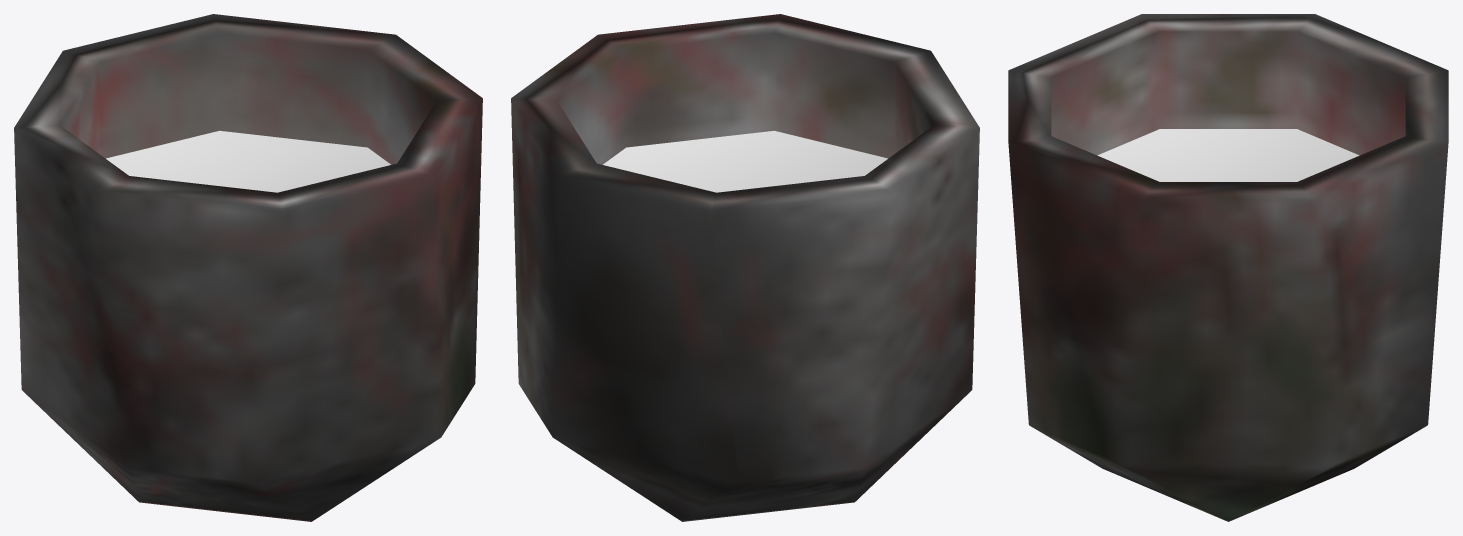
The model's file is Bucket.fbx.
3 renders of one model, left to right at view 1: azimuth 30°, elevation 25°; view 2: azimuth 150°, elevation 25°; view 3: azimuth 270°, elevation 25°, orthographic.
Parts seen in each view (by area): view 1: Cube.032; view 2: Cube.032; view 3: Cube.032.
Boxes of the visible parts, bbox=[...] form: Cube.032: bbox=[14, 14, 482, 521]; Cube.032: bbox=[511, 14, 979, 521]; Cube.032: bbox=[1008, 14, 1448, 521].
Size of the model in its own units: 220 by 200 by 220.
